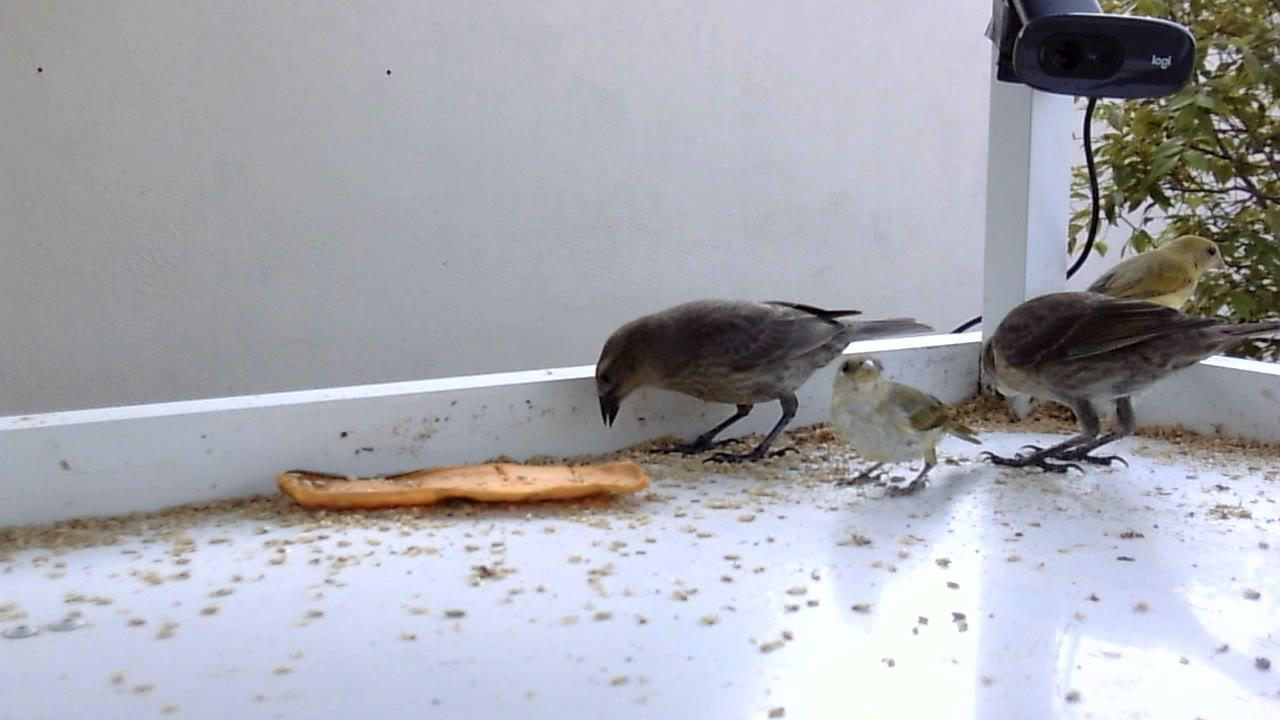canario_do_amazonas: (830, 351, 986, 499), (1088, 231, 1232, 307)
chupim: (594, 295, 939, 468), (979, 291, 1280, 482)
